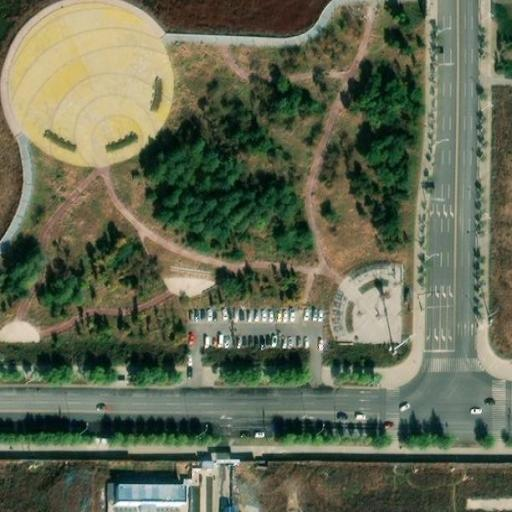building: (115, 482, 187, 503)
